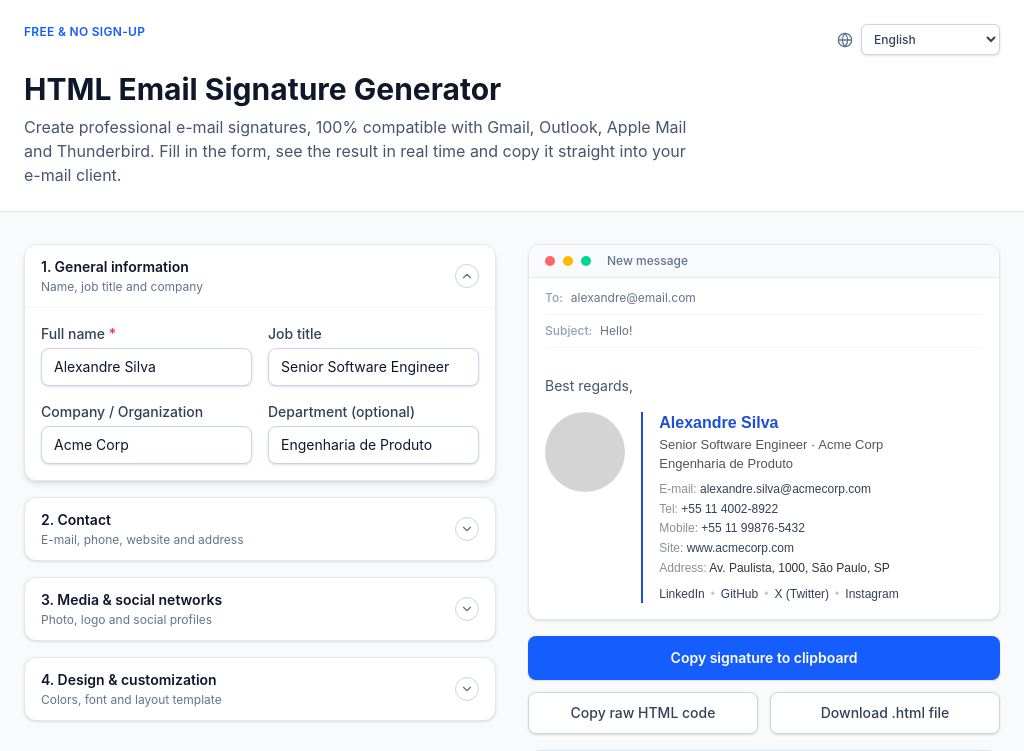
Test: App › updates the preview in real time as the user types the full name
Type "Maria Souza" into the field labelled "Full name *" at (146, 367), box [41, 348, 252, 386]
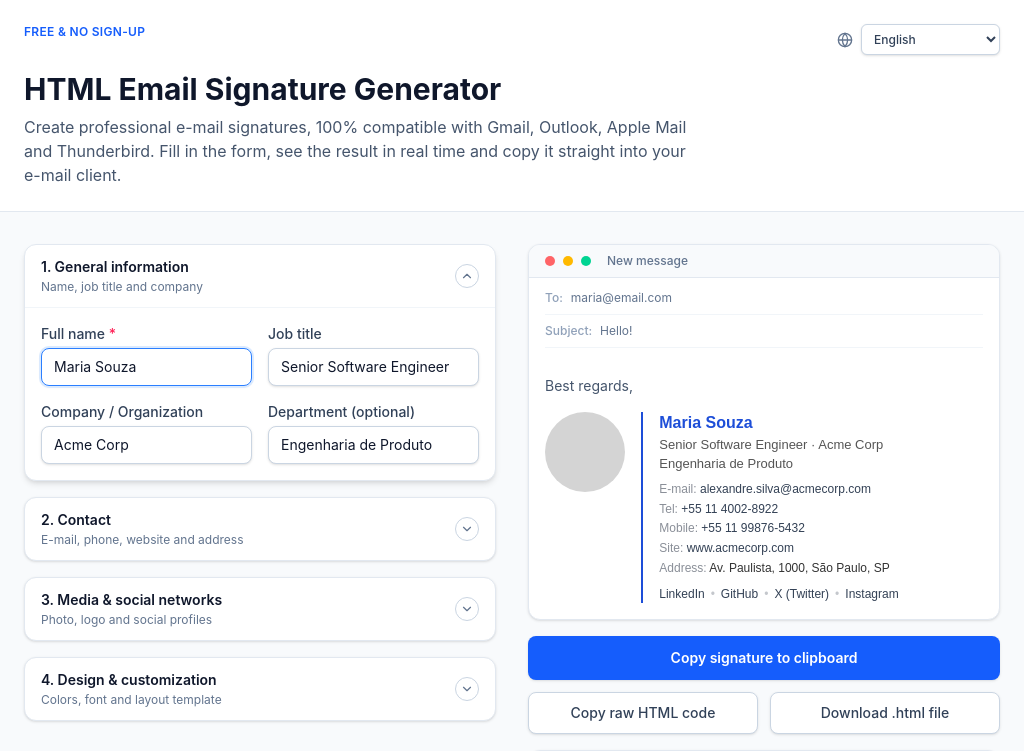
Check: the text "Maria Souza" is shown, box [659, 412, 899, 436]
